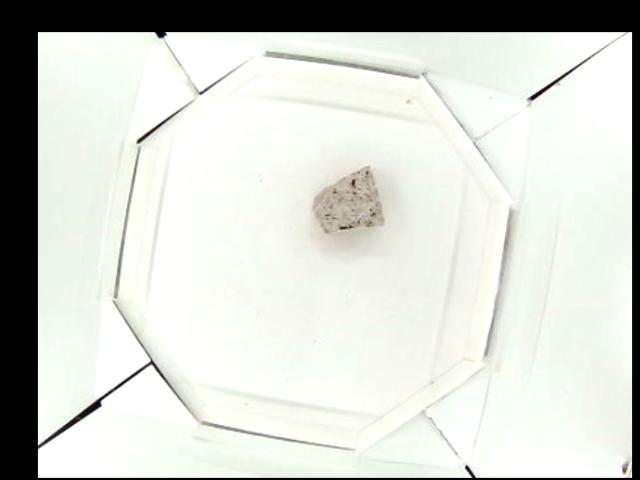China: (312, 164, 383, 232)
